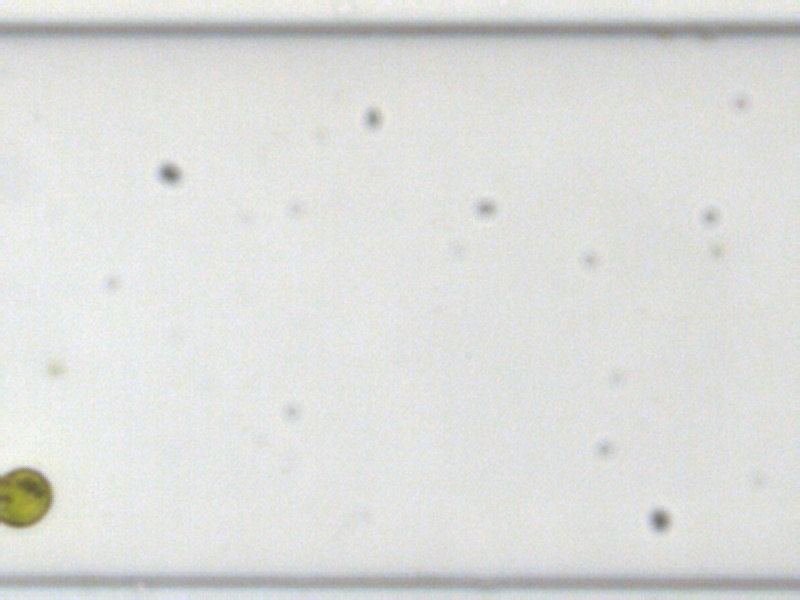Haematococcus: (0, 467, 51, 532)
